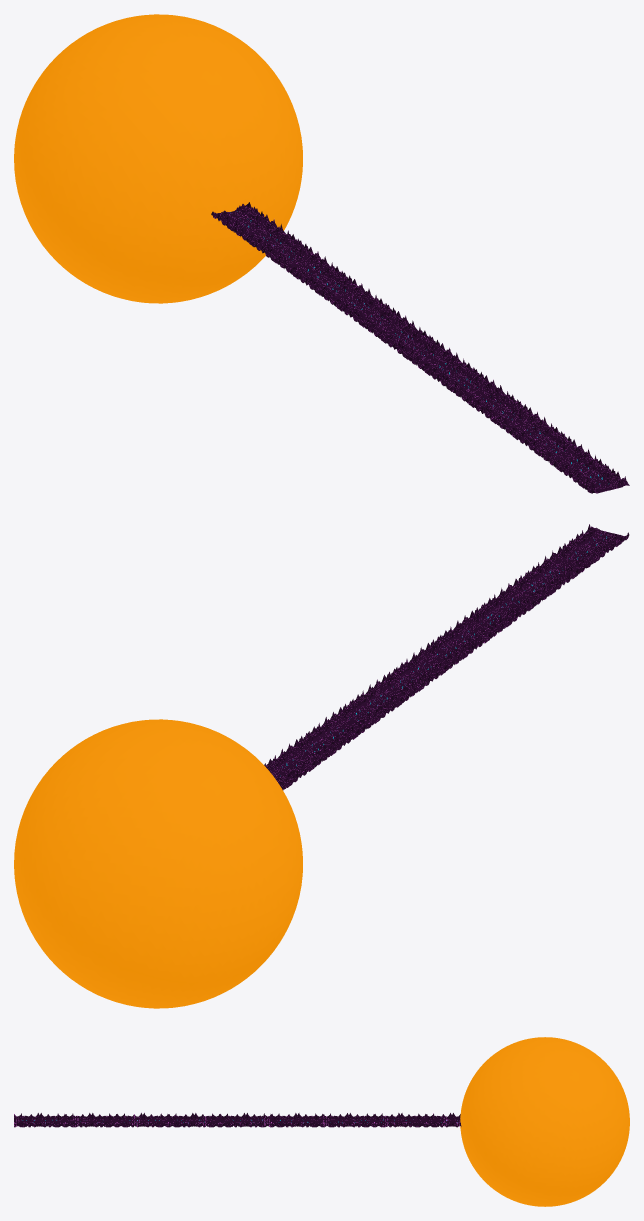
The model's file is Background_Draco.glb.
The picture shows the model from 3 angles, top to bottom: view 1: azimuth 30°, elevation 25°; view 2: azimuth 150°, elevation 25°; view 3: azimuth 270°, elevation 25°; orthographic projection. The views are drawn at different scales.
Visible parts, largest first — view 1: Icosphere, Plane.001; view 2: Icosphere, Plane.001; view 3: Icosphere, Plane.001, Plane.
Part boxes in pixels (box(x1,y1,x2,y2)): Icosphere: box(14, 14, 302, 303); Plane.001: box(211, 202, 629, 493); Icosphere: box(14, 719, 302, 1008); Plane.001: box(264, 524, 629, 790); Icosphere: box(460, 1037, 629, 1206); Plane.001: box(14, 1113, 461, 1127); Plane: box(14, 1113, 459, 1126).
Bounding box in the file's own units: 105 × 105 × 383.
